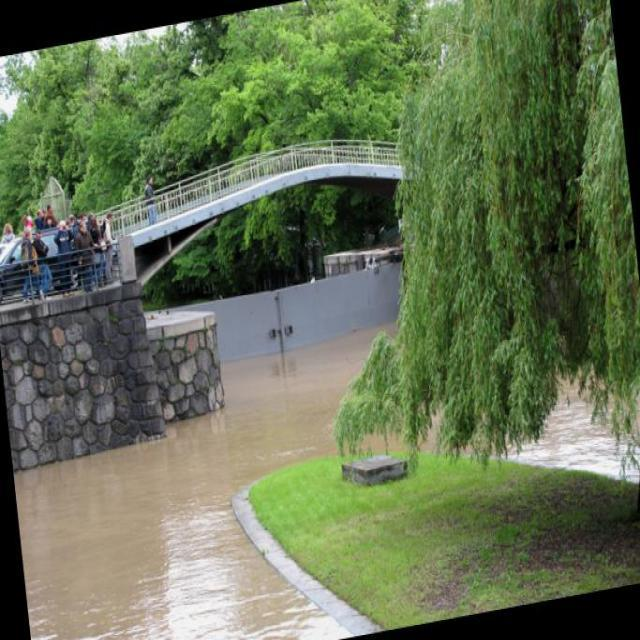flood: (5, 325, 424, 639)
